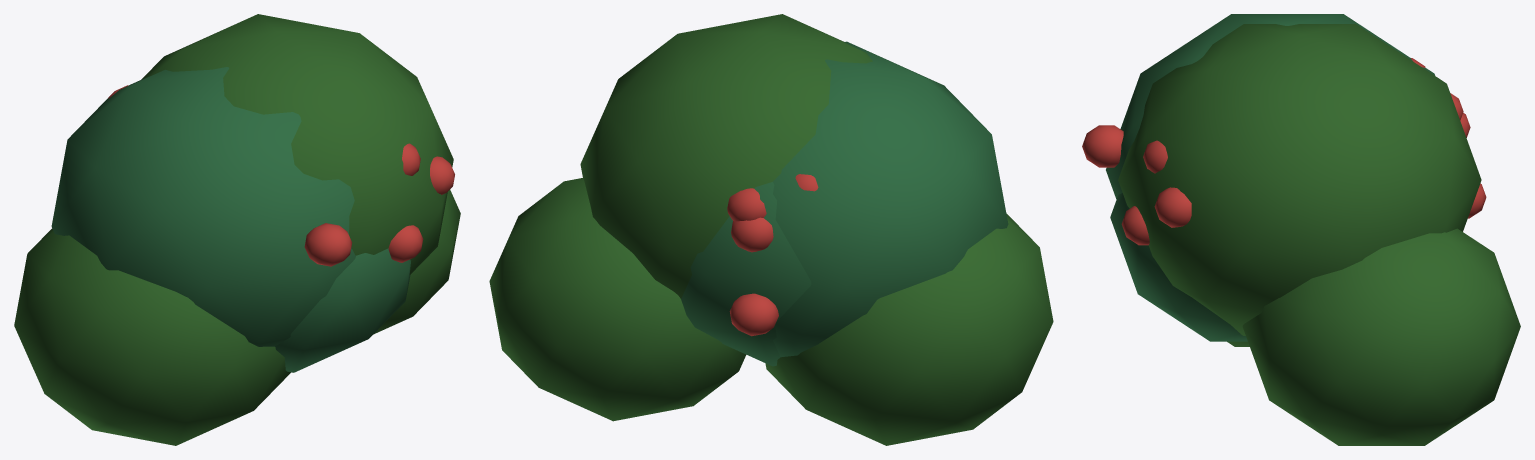
Rendered from buisson_foret_2.glb.
3 views of the same model, side by side, from view 1: azimuth 30°, elevation 25°; view 2: azimuth 150°, elevation 25°; view 3: azimuth 270°, elevation 25° (orthographic). The views are drawn at different scales.
Visible parts, largest first — view 1: feuillage_feuille_sombre.012, feuillage_pin.004, feuillage_rouge.002; view 2: feuillage_feuille_sombre.012, feuillage_pin.004, feuillage_rouge.002; view 3: feuillage_feuille_sombre.012, feuillage_pin.004, feuillage_rouge.002.
Boxes of the visible parts, bbox=[...] form: feuillage_feuille_sombre.012: bbox=[14, 14, 460, 445]; feuillage_pin.004: bbox=[51, 67, 410, 372]; feuillage_rouge.002: bbox=[108, 85, 454, 266]; feuillage_feuille_sombre.012: bbox=[489, 14, 1053, 445]; feuillage_pin.004: bbox=[681, 41, 1008, 366]; feuillage_rouge.002: bbox=[727, 174, 818, 336]; feuillage_feuille_sombre.012: bbox=[1118, 24, 1520, 445]; feuillage_pin.004: bbox=[1106, 14, 1435, 341]; feuillage_rouge.002: bbox=[1082, 58, 1486, 245].
Size of the model in its own units: 0.6418 by 0.4907 by 0.5343.
